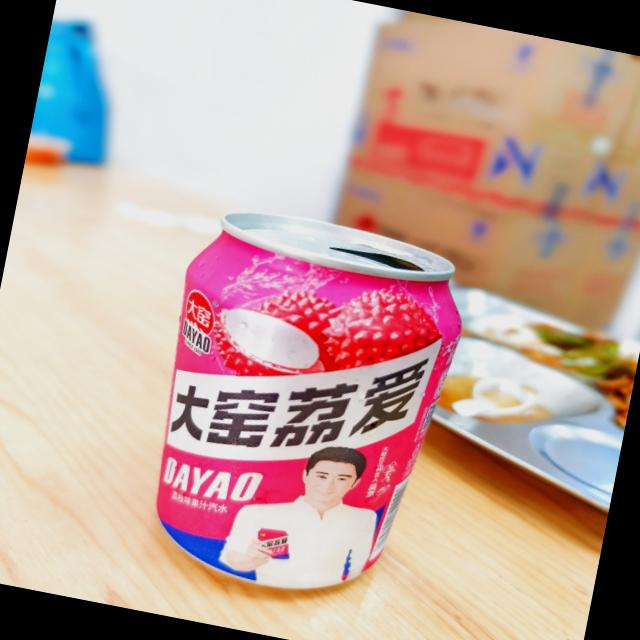can: (124, 194, 480, 620)
